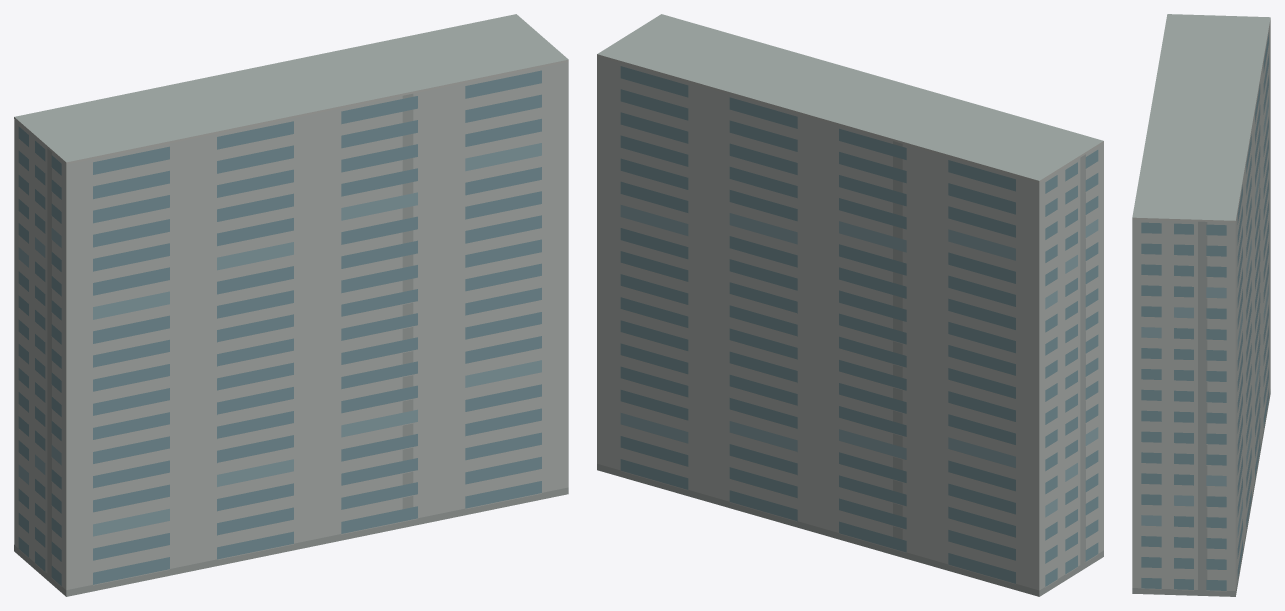
File: residential-a7a77fe0-e6d0-4487-b7db-10900f565b46.glb
3 renders of one model, left to right at view 1: azimuth 30°, elevation 25°; view 2: azimuth 150°, elevation 25°; view 3: azimuth 270°, elevation 25°, orthographic. The views are drawn at different scales.
Visible parts, largest first — view 1: residential-a7a77fe0-e6d0-4487-b7db-10900f565b46.tmp; view 2: residential-a7a77fe0-e6d0-4487-b7db-10900f565b46.tmp; view 3: residential-a7a77fe0-e6d0-4487-b7db-10900f565b46.tmp.
Boxes of the visible parts, <box> form: residential-a7a77fe0-e6d0-4487-b7db-10900f565b46.tmp: <box>14,14,568,596</box>; residential-a7a77fe0-e6d0-4487-b7db-10900f565b46.tmp: <box>597,14,1103,596</box>; residential-a7a77fe0-e6d0-4487-b7db-10900f565b46.tmp: <box>1132,14,1270,596</box>.
Bounding box in the file's own units: 56.62 × 48 × 16.02.
